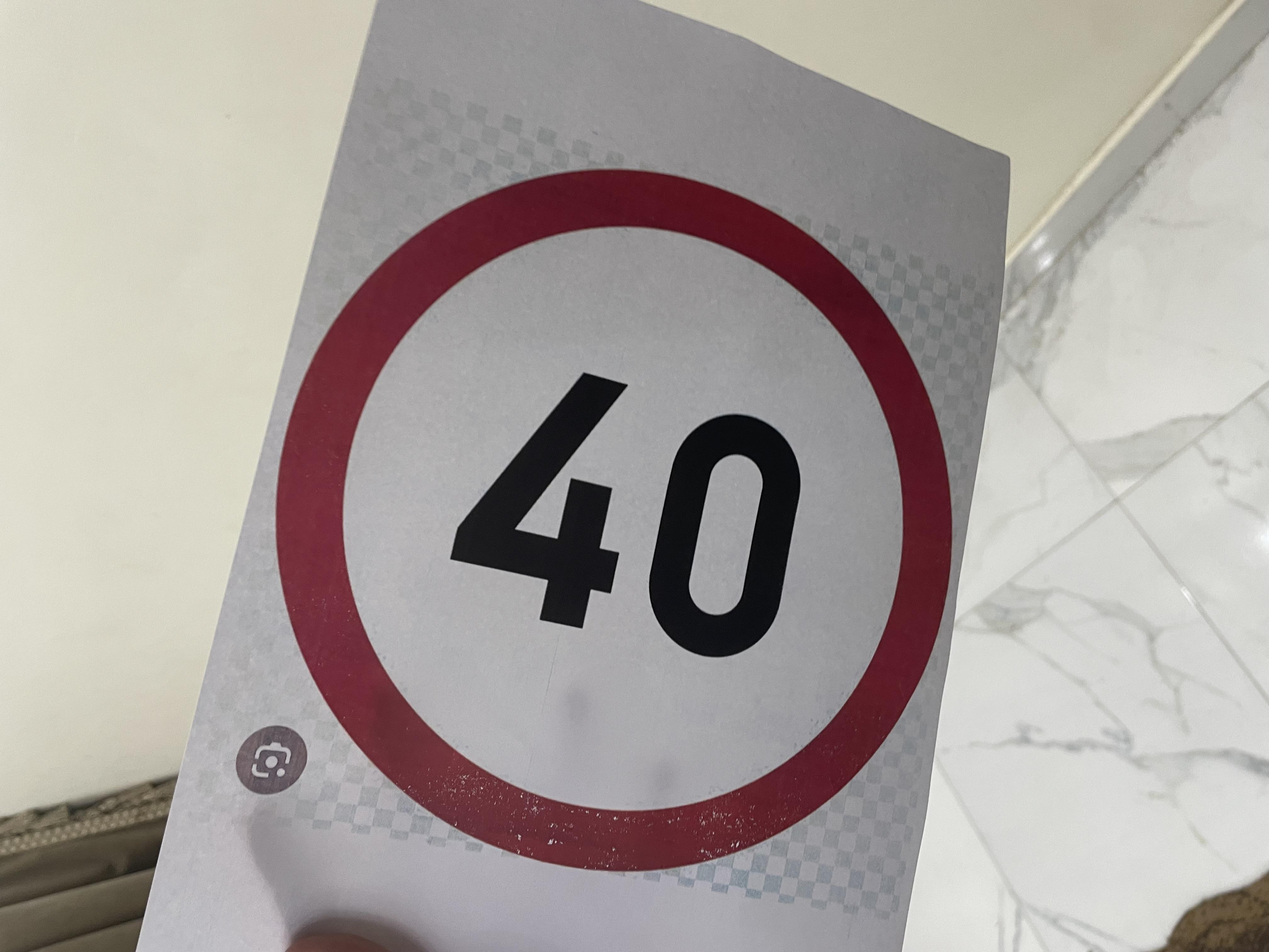40-Speed: (97, 196, 1049, 721)
